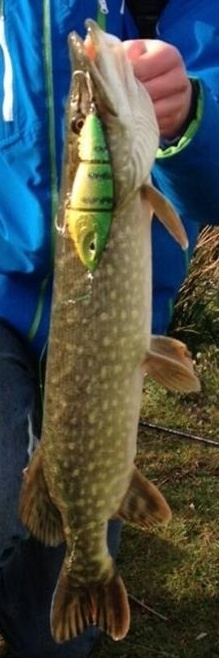Esox lucius: (20, 20, 199, 641)
